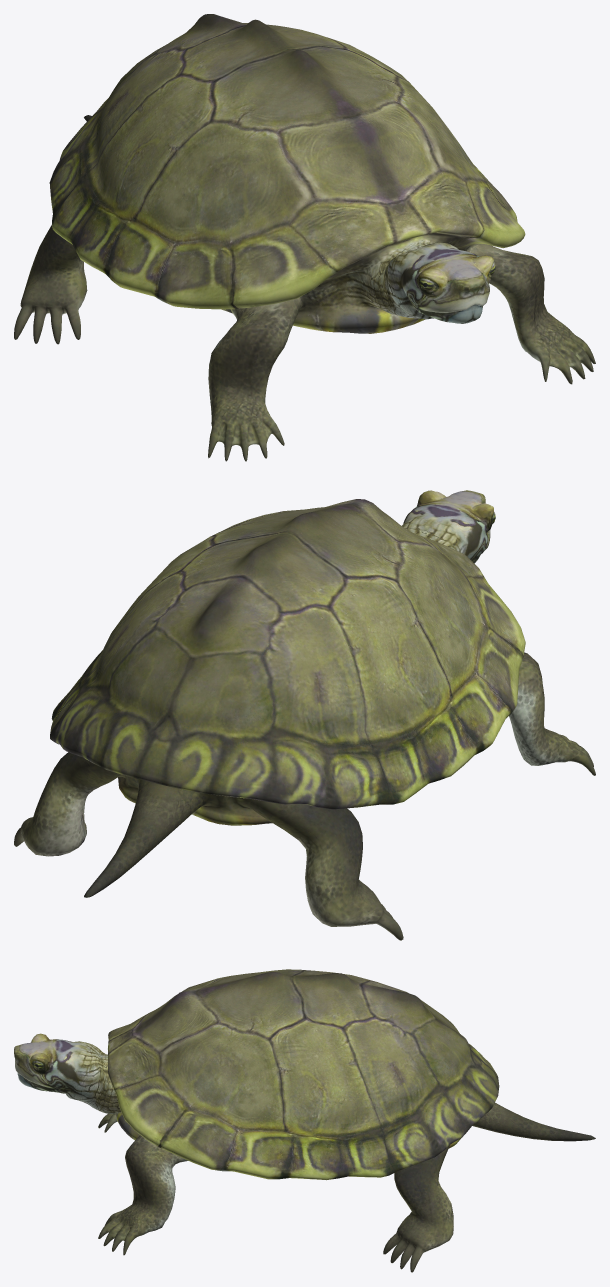
File: TortugaResbaladora.glb
3 renders of one model, top to bottom at view 1: azimuth 30°, elevation 25°; view 2: azimuth 150°, elevation 25°; view 3: azimuth 270°, elevation 25°, orthographic. The views are drawn at different scales.
Visible parts, largest first — view 1: TortugaResbaladora; view 2: TortugaResbaladora; view 3: TortugaResbaladora.
Boxes of the visible parts, <box> form: TortugaResbaladora: <box>14,14,595,461</box>; TortugaResbaladora: <box>14,490,595,940</box>; TortugaResbaladora: <box>14,969,595,1272</box>.
Size of the model in its own units: 1.82 by 1.4 by 3.18.
Materials: 1 (1 with a texture image).
